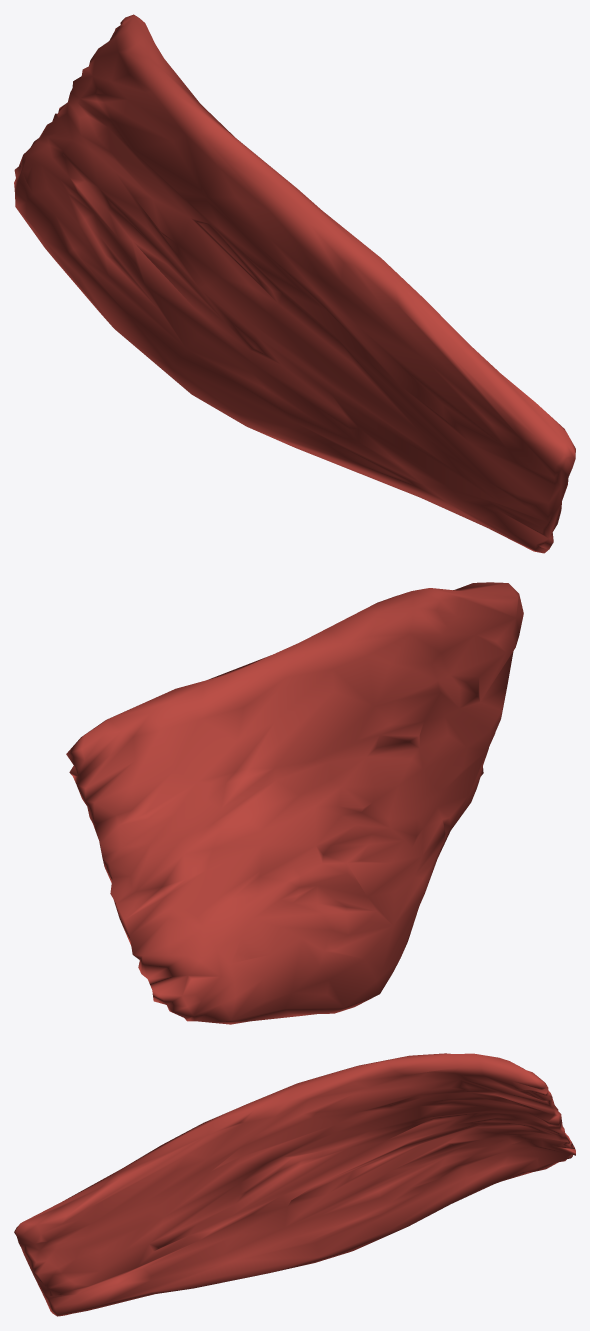
File: musculos-external-part-of-thyro-arytenoid-muscle-r.glb
3 views of the same model, one above another, from view 1: azimuth 30°, elevation 25°; view 2: azimuth 150°, elevation 25°; view 3: azimuth 270°, elevation 25° (orthographic). The views are drawn at different scales.
Visible parts, largest first — view 1: External part of thyro-arytenoid muscle.r; view 2: External part of thyro-arytenoid muscle.r; view 3: External part of thyro-arytenoid muscle.r.
Boxes of the visible parts, x1=… form: External part of thyro-arytenoid muscle.r: x1=14, y1=14, x2=575, y2=553; External part of thyro-arytenoid muscle.r: x1=66, y1=582, x2=523, y2=1024; External part of thyro-arytenoid muscle.r: x1=14, y1=1053, x2=575, y2=1316.
Bounding box in the file's own units: 0.00597 × 0.00921 × 0.0208.
